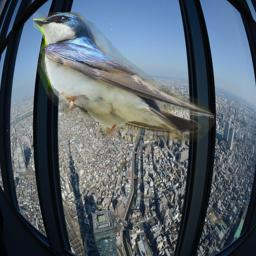Swallow: (33, 12, 215, 147)
